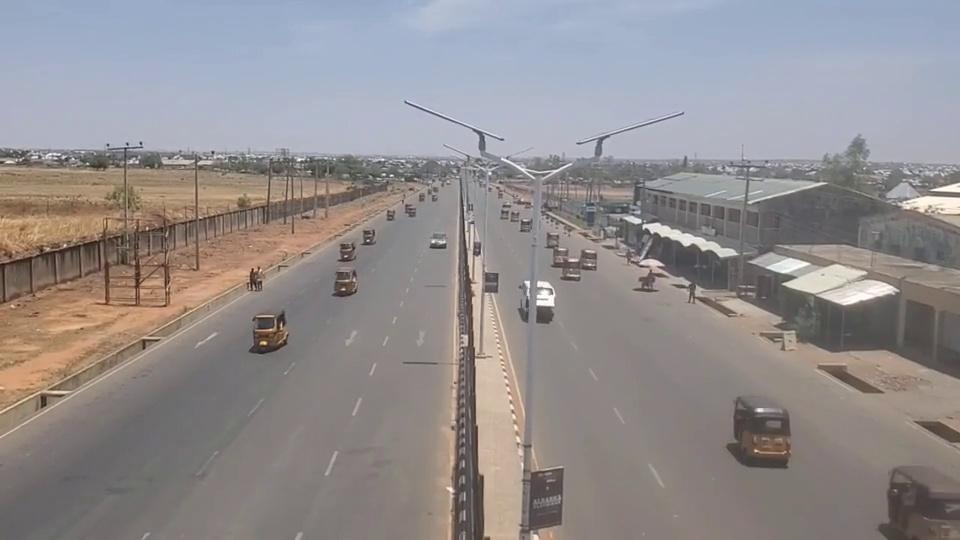bus: (519, 279, 556, 322)
car: (430, 232, 448, 249)
keke: (883, 467, 960, 538), (732, 394, 791, 463), (251, 308, 288, 351), (334, 268, 359, 295), (362, 228, 376, 244), (519, 218, 532, 232), (405, 204, 416, 216)
